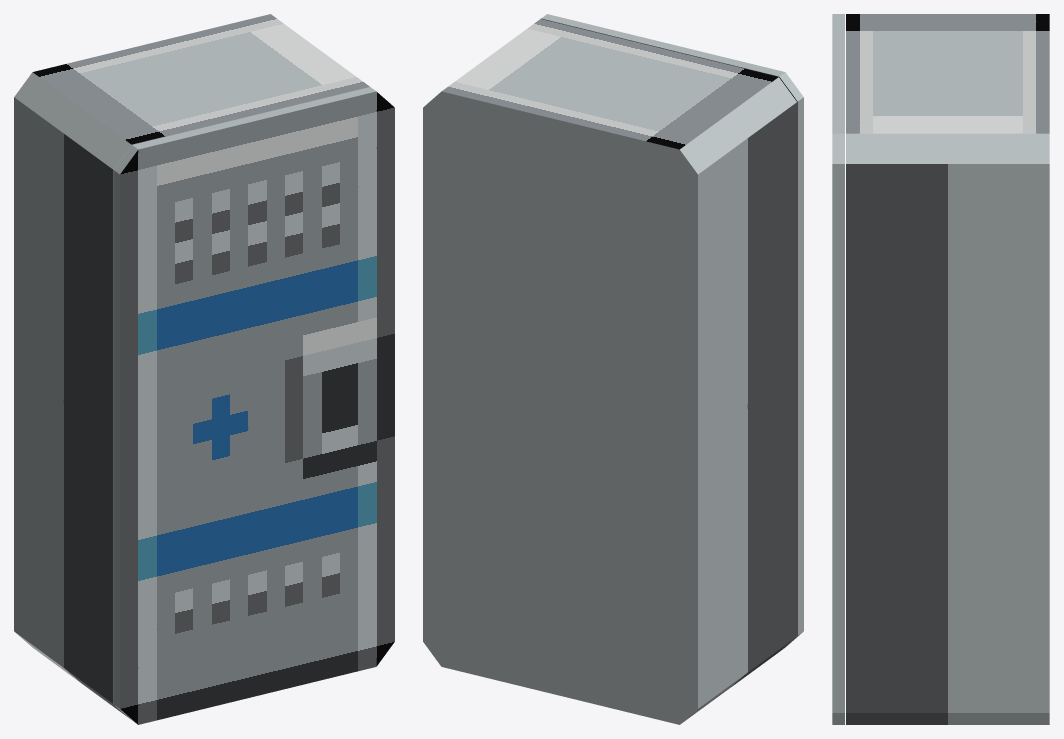
File: locker_shelves.glb
3 renders of one model, left to right at view 1: azimuth 30°, elevation 25°; view 2: azimuth 150°, elevation 25°; view 3: azimuth 270°, elevation 25°, orthographic. The views are drawn at different scales.
Parts seen in each view (by area): view 1: Locker_Door, Locker_Body; view 2: Locker_Body, Locker_Door; view 3: Locker_Body, Locker_Door.
Part boxes in pixels (x1,y1,x2,y2): Locker_Door: (113,87,394,724); Locker_Body: (14,14,369,719); Locker_Body: (423,19,796,724); Locker_Door: (541,14,803,650); Locker_Body: (846,14,1049,724); Locker_Door: (832,14,844,724).
Size of the model in its own units: 0.9 by 1.8 by 0.6.
3 materials, 3 textured.
